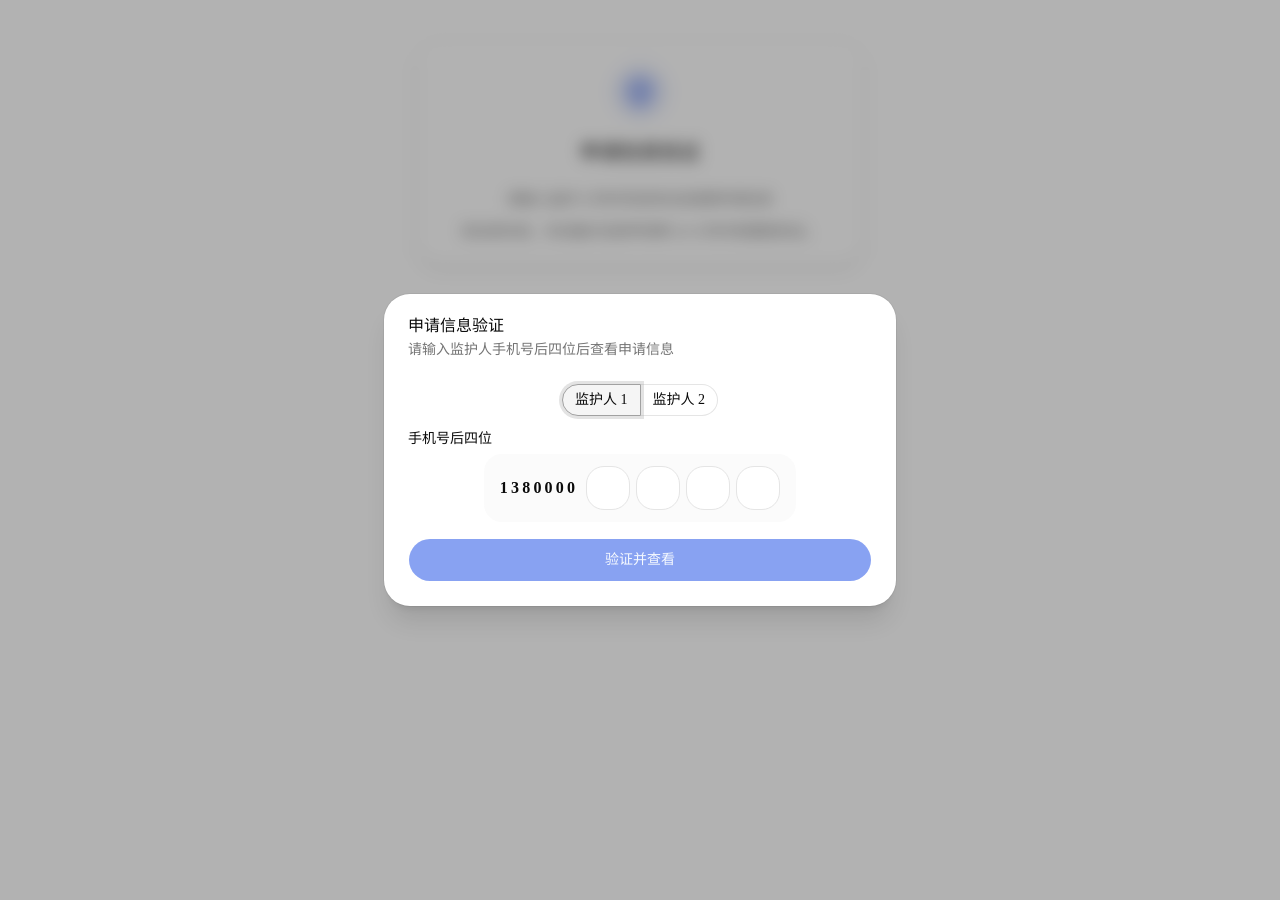
Test: application access guard › switches between guardian phone previews when multiple numbers are available
Check: the text "1380000" is shown, box [500,476,578,500]
Check: the text "1390000" is not shown
Click the radio button labelled "监护人 2" at (679, 400), box [640,384,718,416]
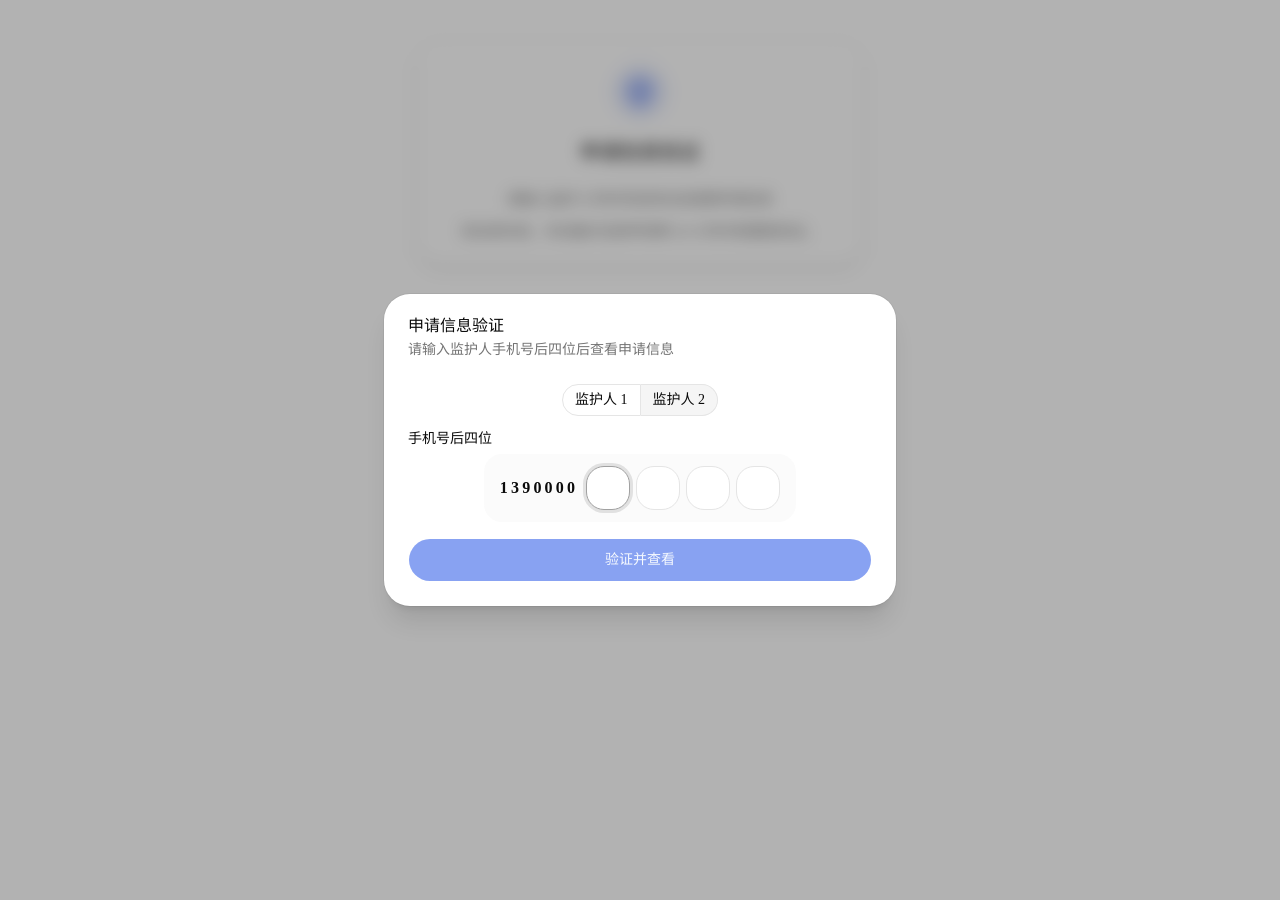
Check: the text "1390000" is shown, box [500,476,578,500]
Check: the text "1380000" is gone
